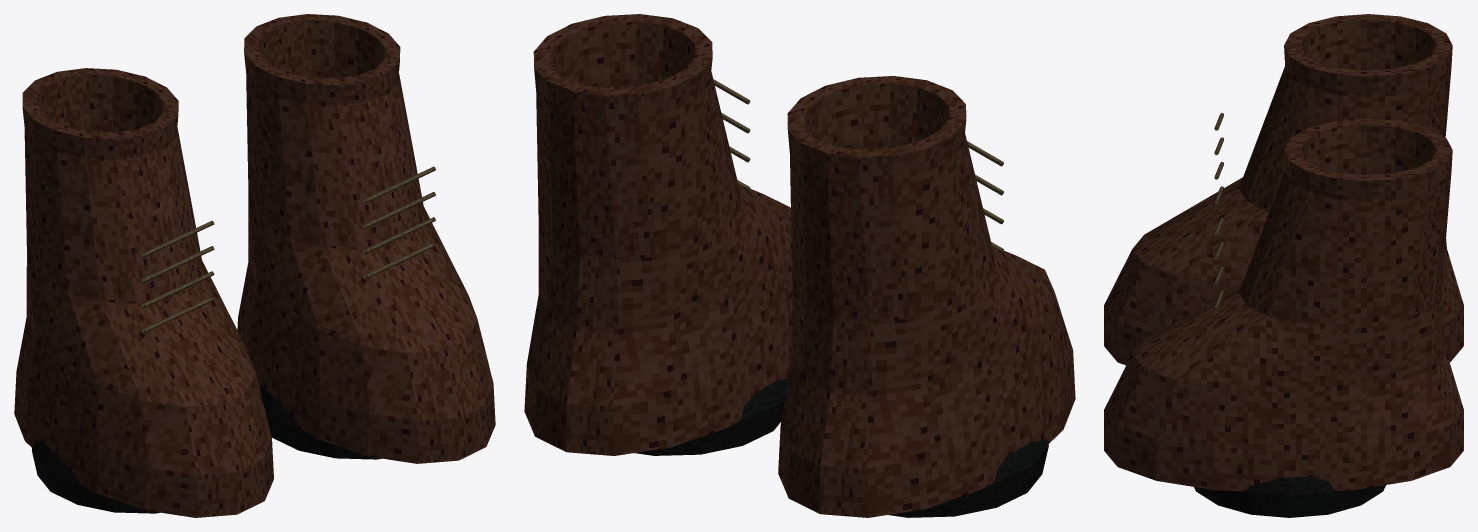
Rendered from level_story_work_boots.glb.
3 views of the same model, side by side, from view 1: azimuth 30°, elevation 25°; view 2: azimuth 150°, elevation 25°; view 3: azimuth 270°, elevation 25° (orthographic). The views are drawn at different scales.
Visible parts, largest first — view 1: level_story_work_boots; view 2: level_story_work_boots; view 3: level_story_work_boots.
Boxes of the visible parts, x1=… form: level_story_work_boots: x1=14, y1=14, x2=495, y2=517; level_story_work_boots: x1=524, y1=14, x2=1075, y2=517; level_story_work_boots: x1=1104, y1=14, x2=1463, y2=517.
Bounding box in the file's own units: 0.41 × 0.319 × 0.32.
3 materials, 3 textured.
